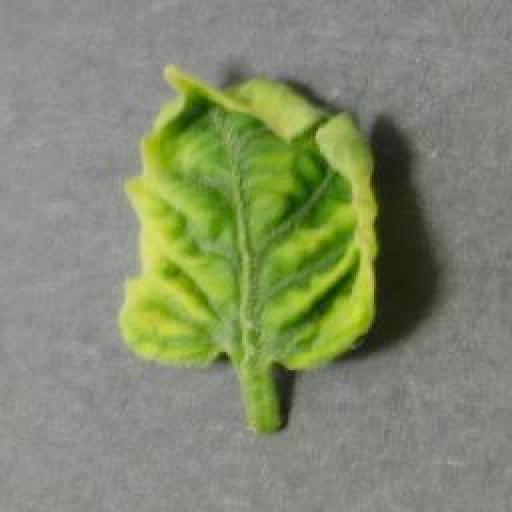disease_tomato: (116, 64, 380, 372)
